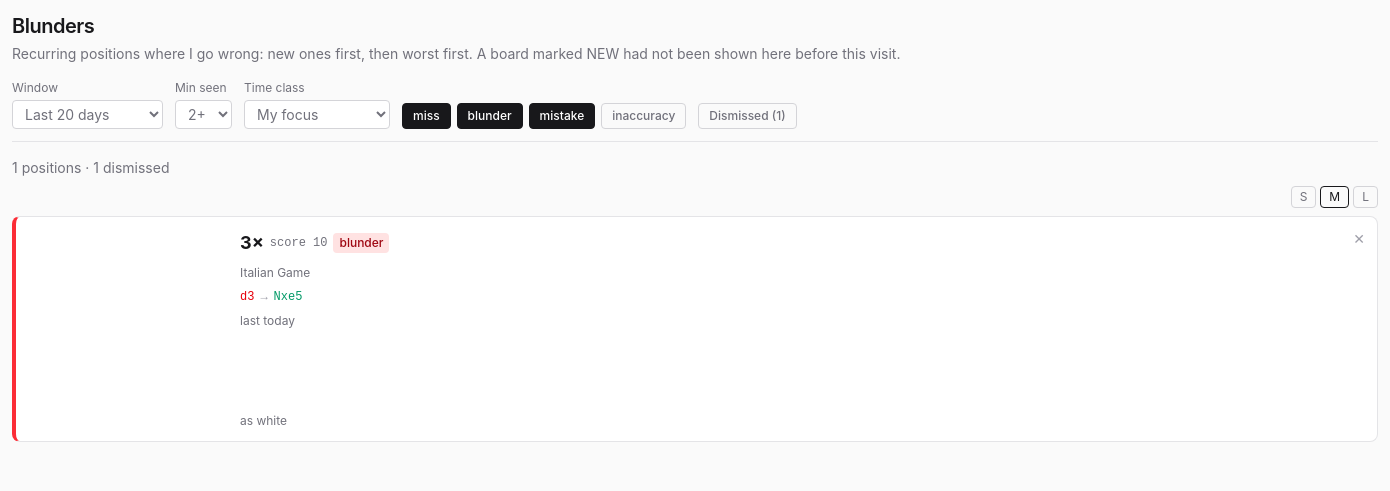
Test: Blunders page › says so when a dismissal fails, and keeps the card
This screenshot has width=1390, height=491.
Click the button named "Dismiss".
click(1359, 239)  # box [1353,229,1365,249]
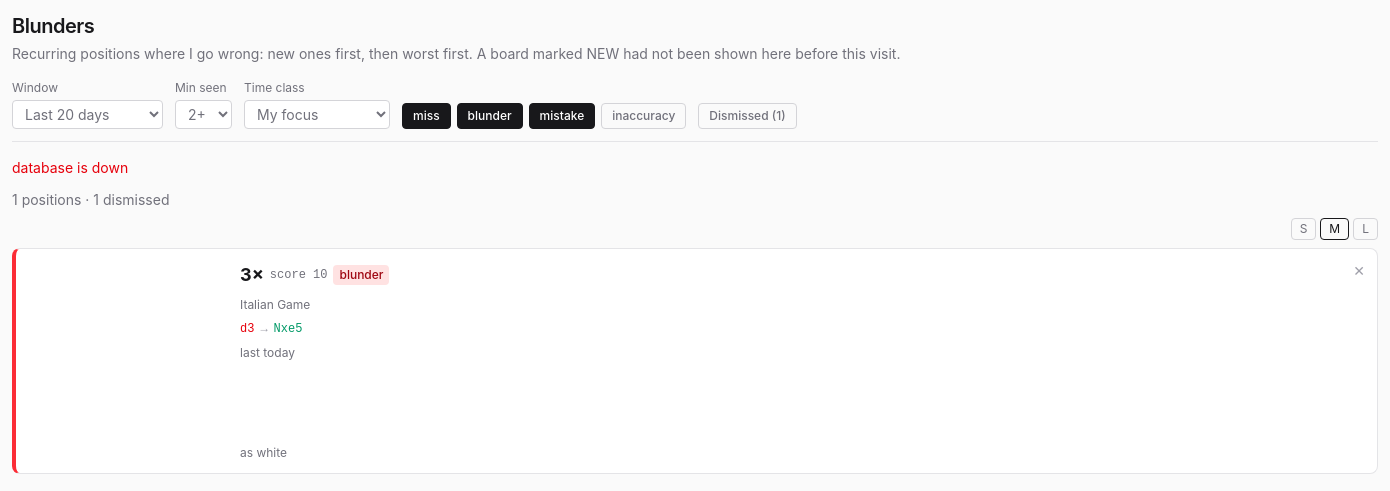
Check: the text "3×" is shown, box [240,261,264,289]
Check: the message reads "database is down", box [12,159,128,176]
